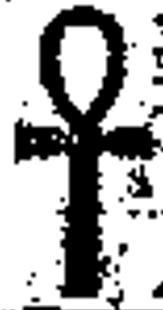Ankh: (11, 4, 159, 300)
